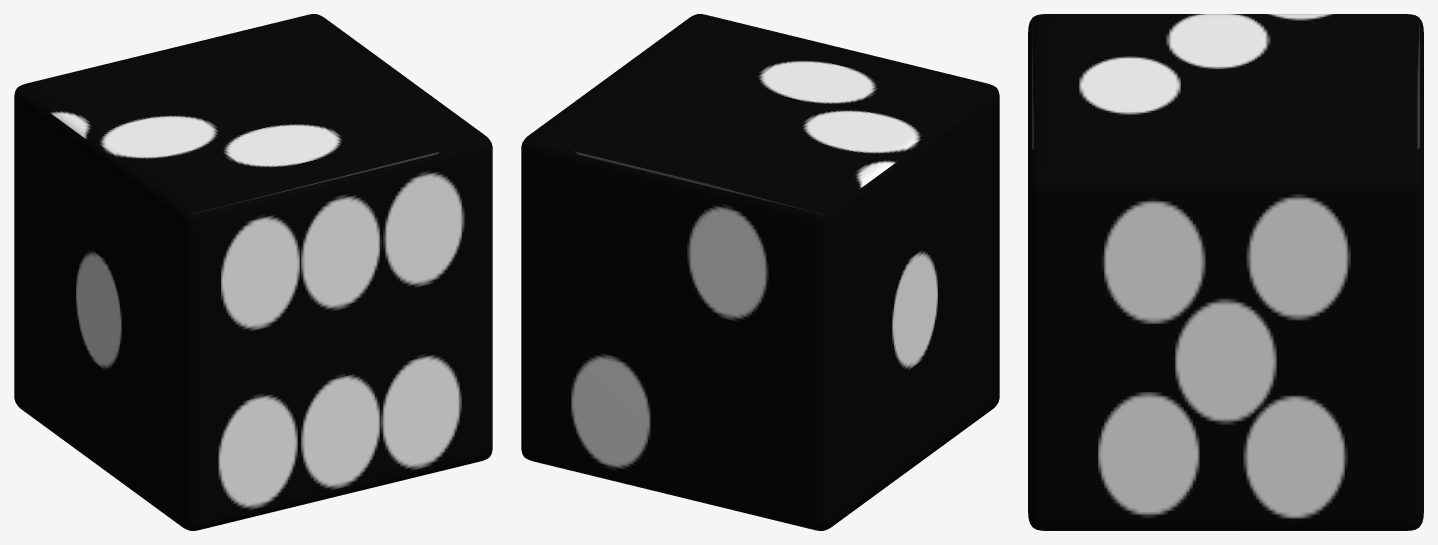
The model's file is dice_cube_100x100x100.fbx.
3 renders of one model, left to right at view 1: azimuth 30°, elevation 25°; view 2: azimuth 150°, elevation 25°; view 3: azimuth 270°, elevation 25°, orthographic. The views are drawn at different scales.
Parts seen in each view (by area): view 1: DiceCube; view 2: DiceCube; view 3: DiceCube.
Part boxes in pixels (x1=…): DiceCube: x1=14, y1=14, x2=492, y2=530; DiceCube: x1=521, y1=14, x2=999, y2=530; DiceCube: x1=1028, y1=14, x2=1423, y2=530.
Size of the model in its own units: 10000 by 10000 by 10000.
1 material, 1 textured.
